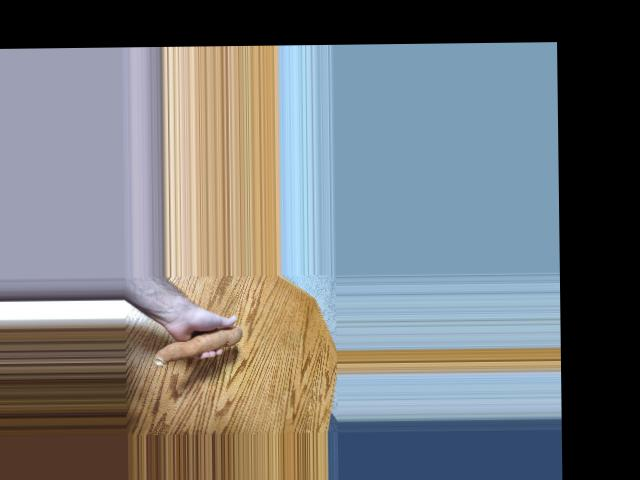sweet_potato: (153, 327, 244, 351)
